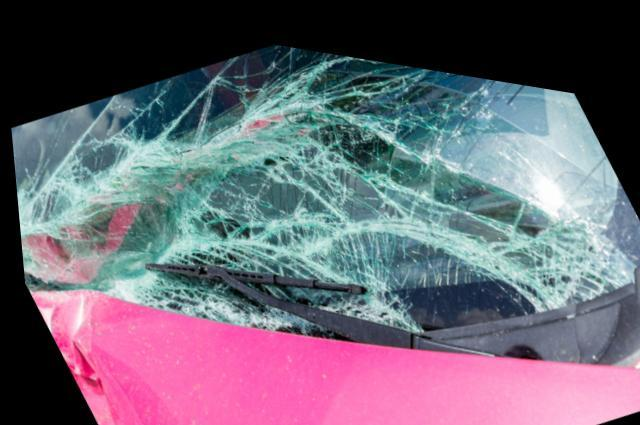dent: (30, 302, 136, 425)
glass shatter: (9, 35, 640, 331)
